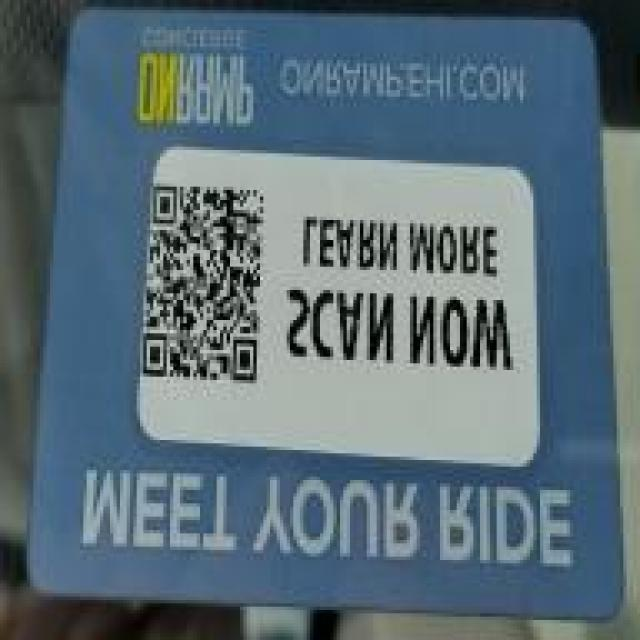qr_code: (144, 186, 266, 383)
